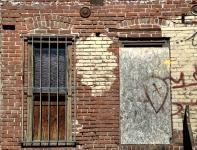graffiti: (76, 35, 116, 94)
